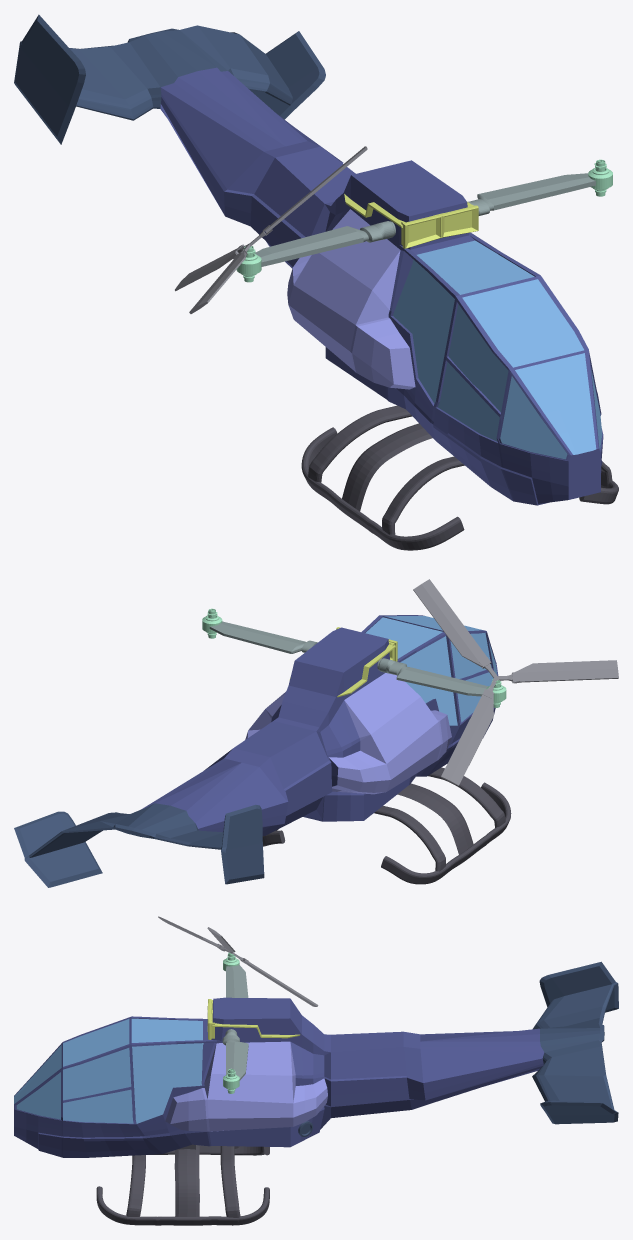
Rendered from Helikopter_broken_1.fbx.
3 renders of one model, top to bottom at view 1: azimuth 30°, elevation 25°; view 2: azimuth 150°, elevation 25°; view 3: azimuth 270°, elevation 25°, orthographic. The views are drawn at different scales.
Visible parts, largest first — view 1: Cube, Cube.004, BezierCurve, Cube.001, Cube.005, Cube.008, Cylinder.001; view 2: Cube, Cube.008, BezierCurve, Cube.004, Cube.001, Cylinder.001, Cube.005; view 3: Cube, Cube.004, BezierCurve, Cube.001, Cube.008, Cube.005, Cylinder.001.
Part boxes in pixels (bbox=[...]): Cube: bbox=[14, 14, 603, 505]; Cube.004: bbox=[393, 240, 602, 459]; BezierCurve: bbox=[301, 405, 618, 550]; Cube.001: bbox=[255, 173, 595, 266]; Cube.005: bbox=[344, 194, 478, 248]; Cube.008: bbox=[175, 146, 367, 313]; Cylinder.001: bbox=[236, 159, 612, 282]; Cube: bbox=[14, 615, 498, 887]; Cube.008: bbox=[413, 579, 618, 785]; BezierCurve: bbox=[262, 767, 511, 884]; Cube.004: bbox=[365, 616, 497, 725]; Cube.001: bbox=[209, 621, 488, 696]; Cylinder.001: bbox=[202, 608, 506, 707]; Cube.005: bbox=[289, 627, 397, 697]; Cube: bbox=[14, 961, 618, 1157]; Cube.004: bbox=[14, 1018, 203, 1123]; BezierCurve: bbox=[96, 1144, 269, 1225]; Cube.001: bbox=[222, 965, 248, 1080]; Cube.008: bbox=[158, 916, 318, 1006]; Cube.005: bbox=[207, 999, 300, 1039]; Cylinder.001: bbox=[223, 952, 239, 1093].
Bounding box in the file's own units: 1039 × 743 × 1712.
